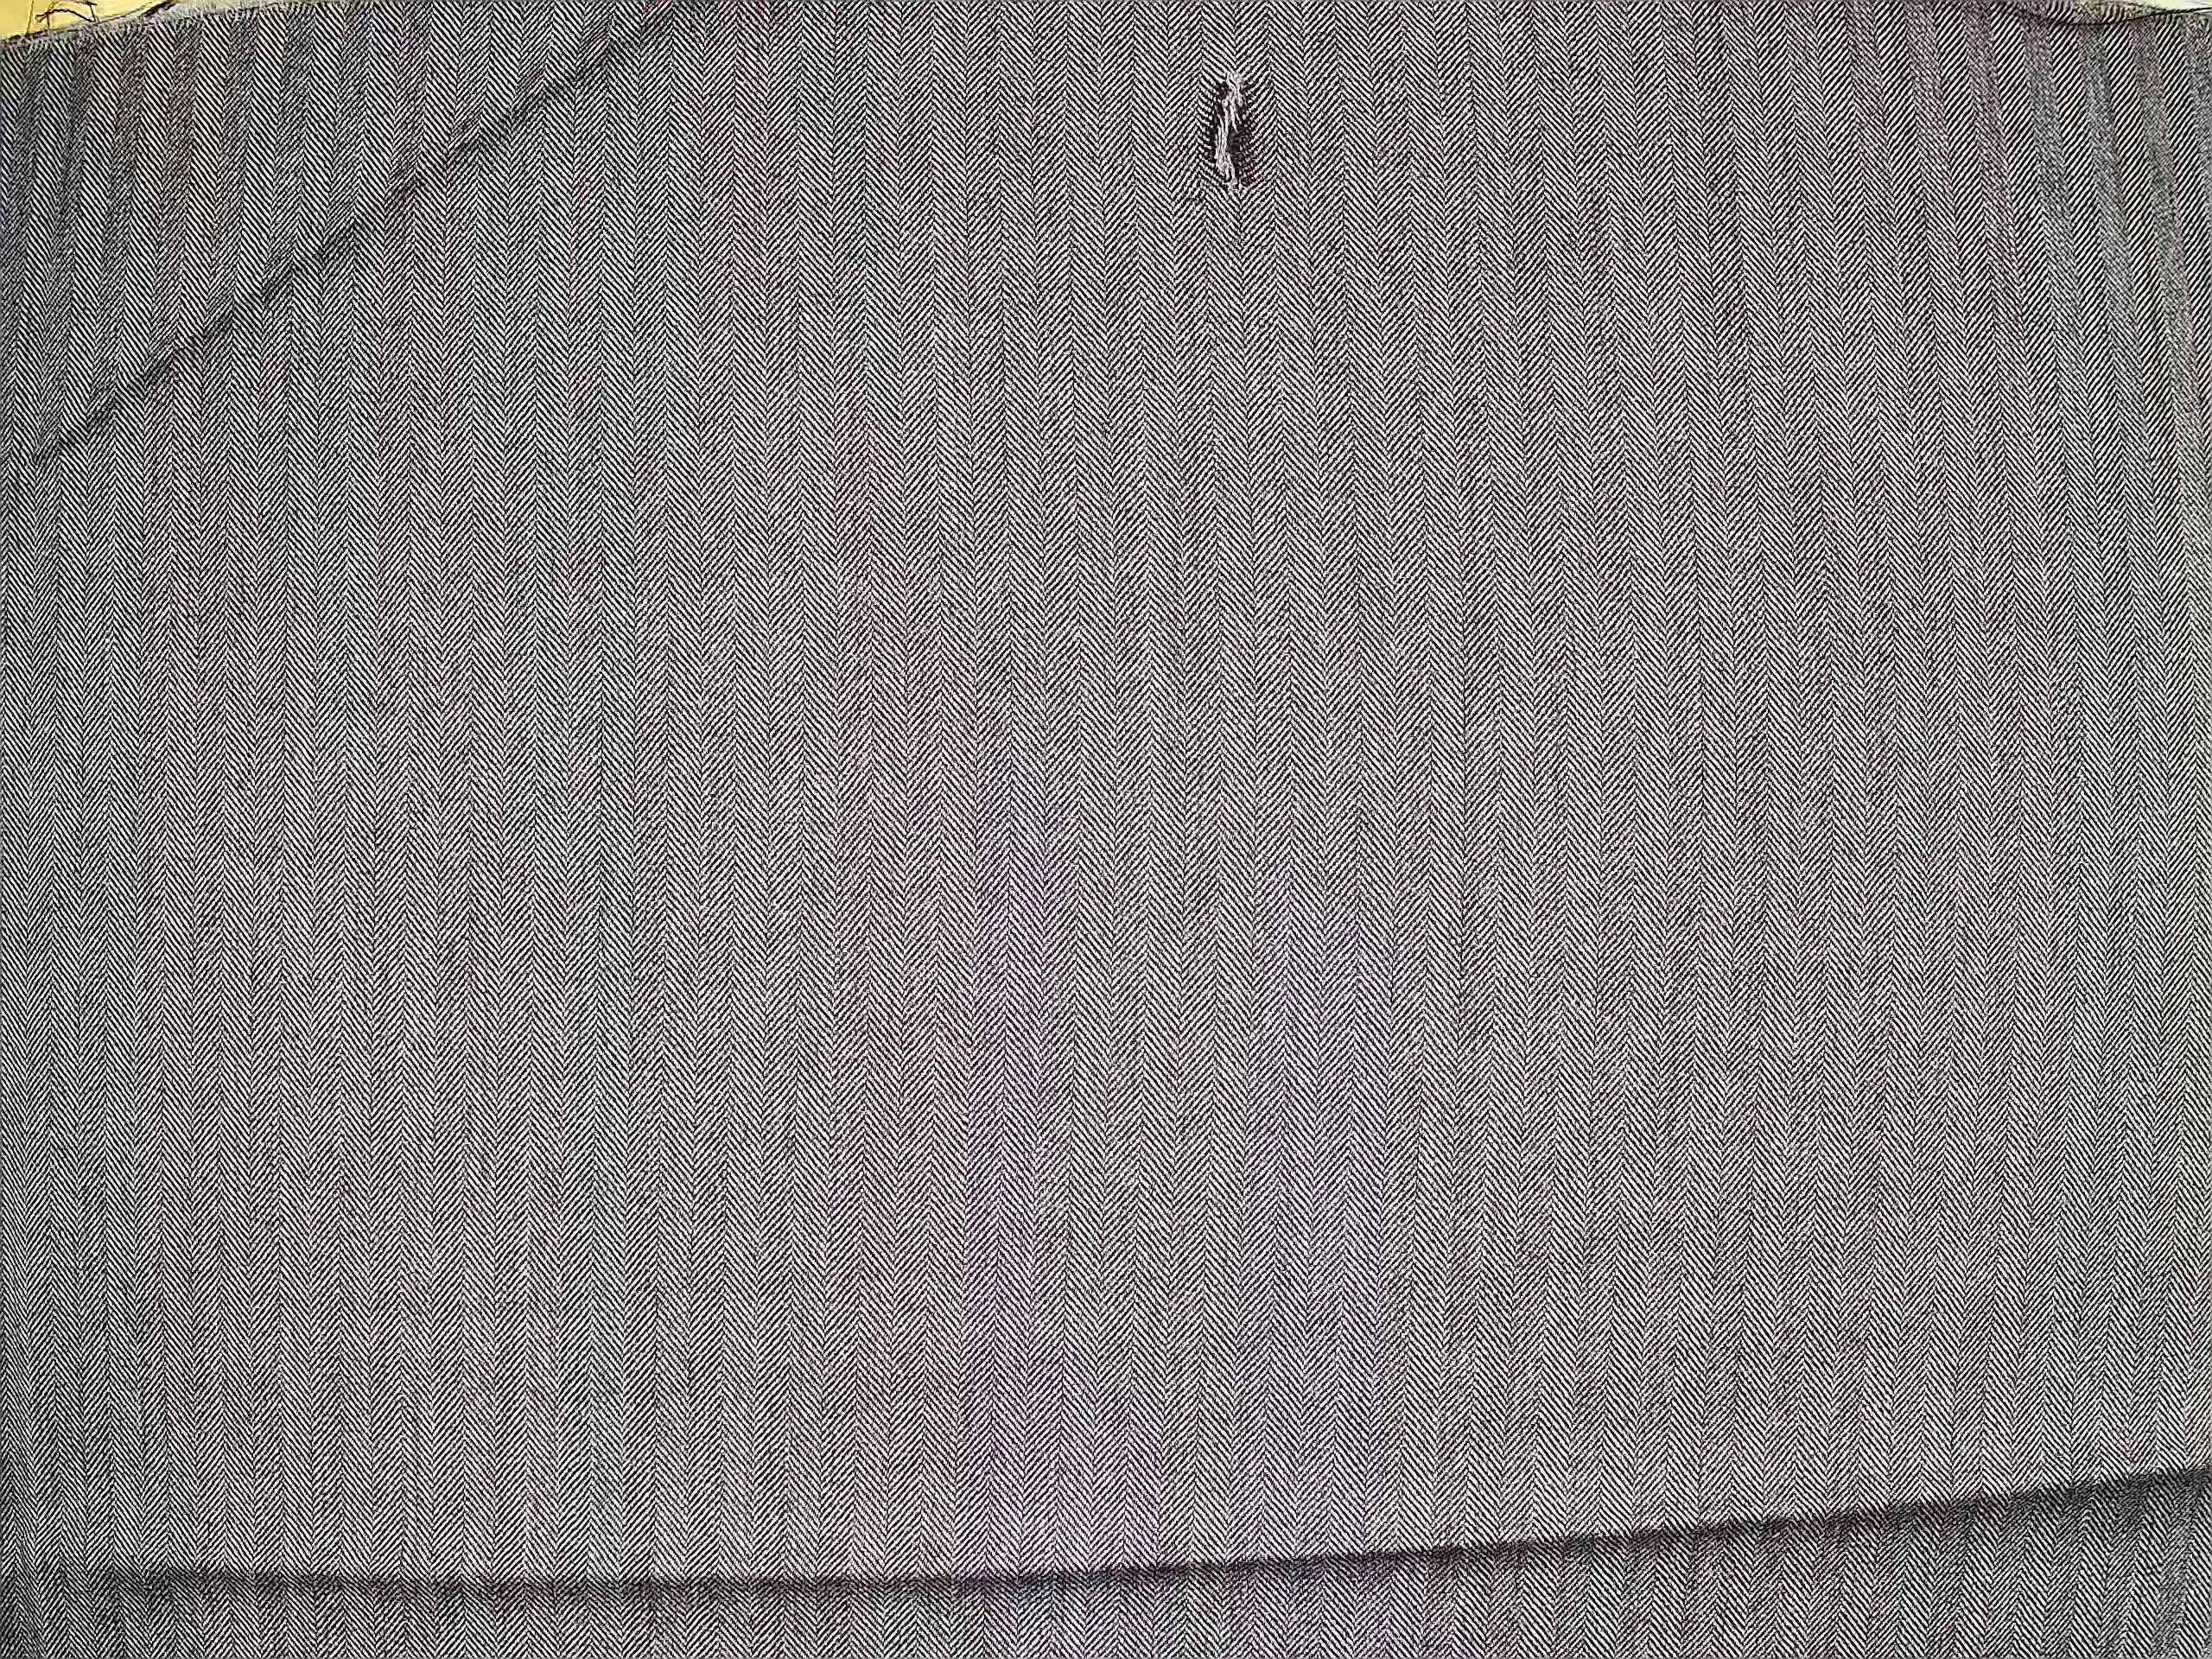rubbing-hole: (1172, 54, 1284, 223)
